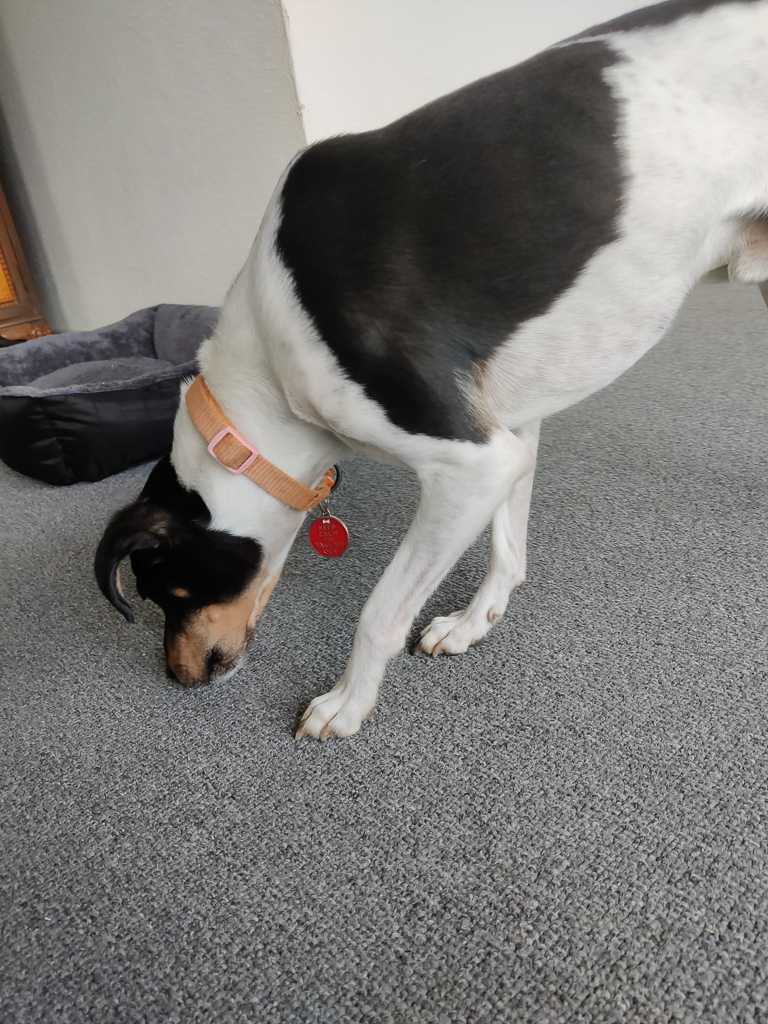Dog: (81, 0, 768, 749)
